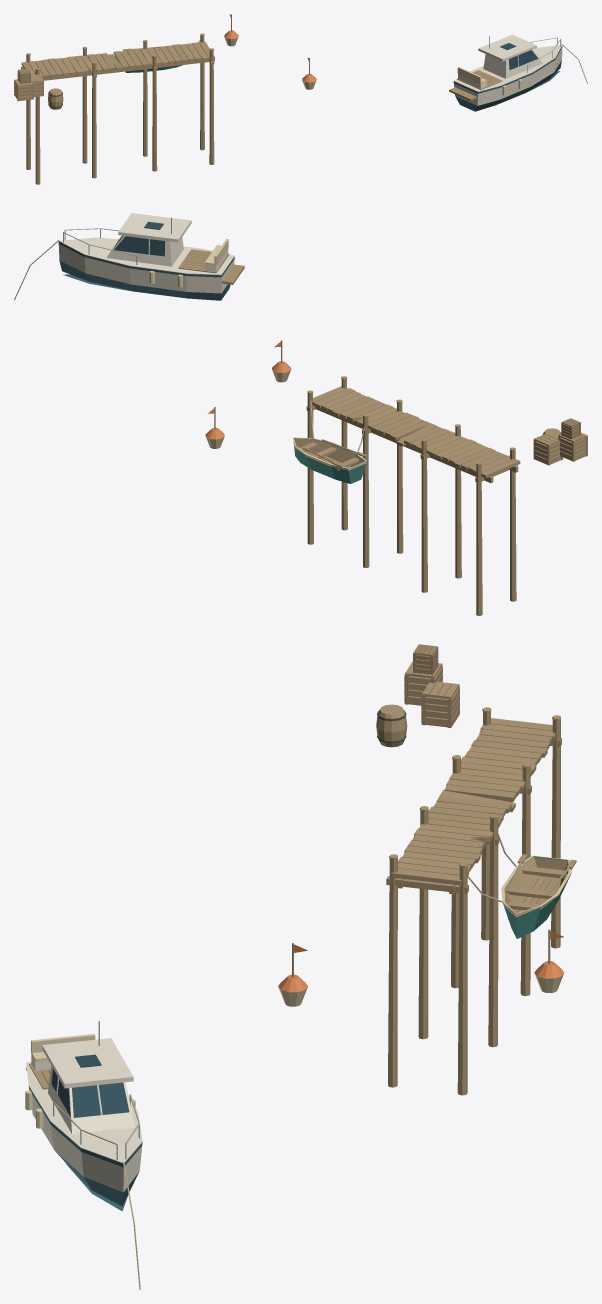
Rendered from props-palm-cove.glb.
3 renders of one model, top to bottom at view 1: azimuth 30°, elevation 25°; view 2: azimuth 150°, elevation 25°; view 3: azimuth 270°, elevation 25°, orthographic. The views are drawn at different scales.
Parts seen in each view (by area): view 1: Jetty, Offshore_yacht, Landing_crate_1, Landing_barrel; view 2: Jetty, Offshore_yacht, Moored_boat, Landing_crate_2, Landing_crate_1; view 3: Jetty, Offshore_yacht, Moored_boat, Landing_crate_2, Landing_barrel, Landing_crate_1, Fishing_buoy_1, Fishing_buoy_2.
Boxes of the visible parts, <box> form: Jetty: <box>21,33,214,184</box>; Offshore_yacht: <box>449,34,587,111</box>; Landing_crate_1: <box>14,79,33,101</box>; Landing_barrel: <box>48,88,63,109</box>; Jetty: <box>306,376,520,615</box>; Offshore_yacht: <box>14,213,244,300</box>; Moored_boat: <box>293,437,367,483</box>; Landing_crate_2: <box>533,433,563,465</box>; Landing_crate_1: <box>558,432,587,461</box>; Jetty: <box>386,707,561,1095</box>; Offshore_yacht: <box>25,1021,142,1289</box>; Moored_boat: <box>501,854,576,938</box>; Landing_crate_2: <box>421,681,459,728</box>; Landing_barrel: <box>376,704,407,747</box>; Landing_crate_1: <box>404,661,442,705</box>; Fishing_buoy_1: <box>534,929,564,992</box>; Fishing_buoy_2: <box>278,943,307,1006</box>.
Size of the model in its own units: 41.67 by 10.45 by 19.82.
